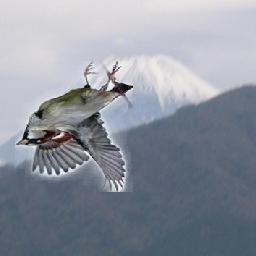Sparrow: (15, 62, 133, 193)
